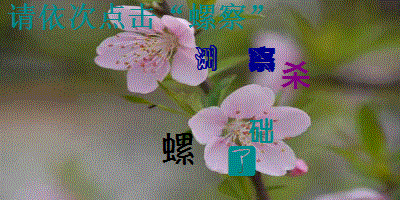text: (160, 130, 196, 167), (226, 144, 258, 177), (280, 60, 312, 91), (246, 45, 278, 73), (248, 118, 275, 145), (193, 44, 219, 70)
